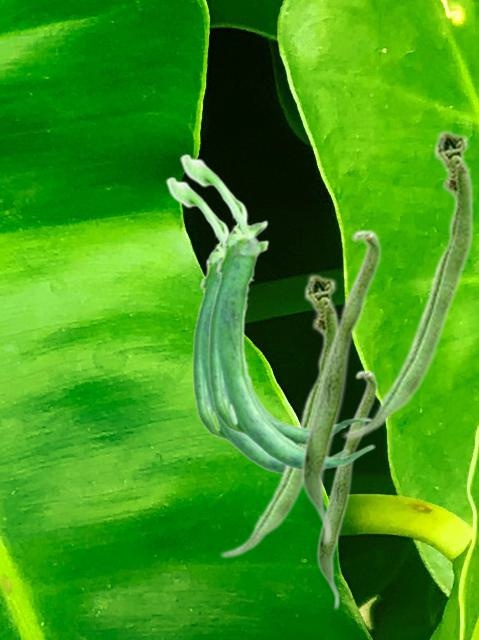french_bean: (179, 153, 374, 471), (165, 176, 348, 474), (341, 128, 473, 439), (219, 272, 340, 558), (300, 228, 381, 546), (316, 369, 377, 610)
